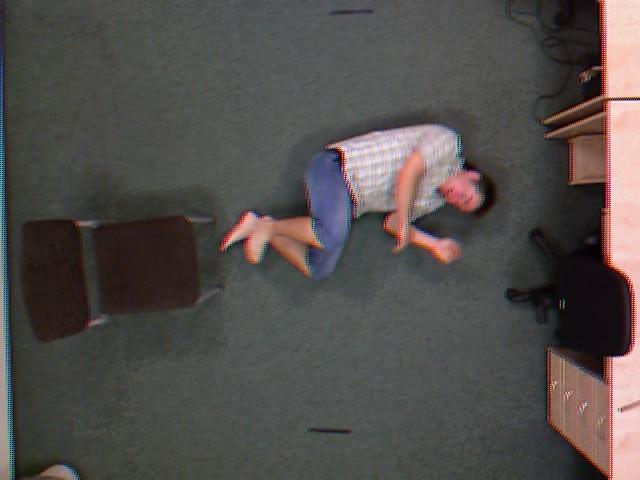fall: (220, 118, 507, 289)
